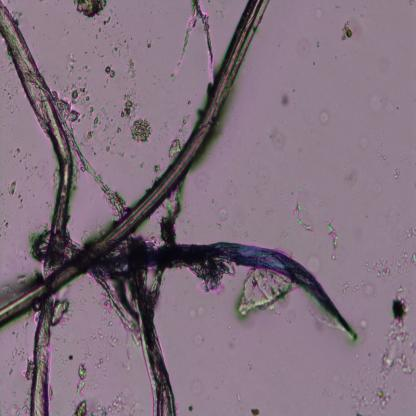Background material: (378, 288, 416, 378), (230, 266, 291, 322), (324, 370, 393, 416), (114, 90, 156, 143), (288, 186, 316, 236), (86, 387, 132, 416), (394, 224, 416, 281), (80, 104, 110, 144), (195, 258, 226, 293), (74, 0, 111, 21), (360, 256, 396, 275), (326, 219, 341, 263), (96, 298, 116, 327), (51, 296, 69, 325), (75, 361, 87, 400), (12, 391, 31, 415), (374, 142, 392, 166), (69, 85, 93, 103), (366, 89, 384, 112), (211, 202, 228, 225), (338, 20, 355, 43), (61, 107, 84, 124), (266, 128, 284, 149), (178, 112, 193, 137), (71, 398, 91, 416), (338, 280, 358, 298), (125, 54, 137, 84), (130, 395, 147, 416), (122, 343, 135, 368), (193, 170, 211, 188), (355, 133, 369, 153), (361, 277, 374, 298), (80, 337, 93, 358), (189, 302, 206, 318), (168, 135, 180, 157), (306, 259, 321, 276), (298, 37, 311, 55), (64, 51, 74, 74), (11, 345, 26, 360), (275, 92, 291, 106), (25, 356, 35, 378), (189, 334, 206, 346), (92, 356, 106, 370), (355, 317, 368, 332), (345, 170, 358, 184), (314, 2, 324, 20), (104, 65, 116, 79), (318, 108, 329, 123), (6, 180, 17, 195), (105, 334, 116, 348), (391, 168, 400, 185), (244, 356, 253, 372), (161, 118, 170, 133), (77, 292, 87, 305), (17, 273, 27, 286), (76, 64, 90, 73), (0, 218, 11, 229), (184, 400, 194, 412), (387, 98, 394, 115), (52, 71, 60, 85), (56, 354, 66, 365), (18, 193, 24, 210), (249, 407, 260, 416), (153, 163, 162, 174), (96, 329, 104, 341), (14, 12, 22, 24), (145, 36, 153, 48), (60, 84, 67, 97), (5, 88, 12, 100), (102, 18, 112, 26), (264, 206, 272, 216), (114, 125, 122, 134), (130, 152, 139, 160), (124, 39, 129, 52), (14, 146, 22, 154), (8, 366, 14, 376), (104, 79, 109, 89), (55, 332, 61, 340), (244, 226, 248, 237), (408, 0, 415, 6), (186, 98, 192, 105), (236, 394, 241, 402), (359, 11, 365, 17), (140, 161, 146, 167), (106, 144, 110, 153), (76, 74, 82, 80), (69, 355, 74, 362), (113, 22, 118, 29), (110, 5, 113, 16), (298, 146, 302, 154), (316, 40, 320, 48), (94, 32, 98, 40), (112, 47, 118, 52), (84, 50, 89, 55), (336, 4, 340, 10), (65, 28, 69, 34), (18, 158, 22, 163), (34, 165, 38, 170), (24, 165, 28, 170), (32, 25, 36, 30), (120, 154, 125, 158), (311, 129, 314, 134), (98, 27, 101, 32), (292, 89, 295, 93), (316, 143, 320, 146), (353, 8, 356, 11), (313, 61, 315, 65), (397, 106, 399, 110), (335, 56, 337, 60)
Cellulose filter fibre: (0, 1, 77, 416), (122, 256, 179, 416), (71, 137, 124, 217), (178, 0, 216, 84)
Cotton: (121, 228, 360, 344)
